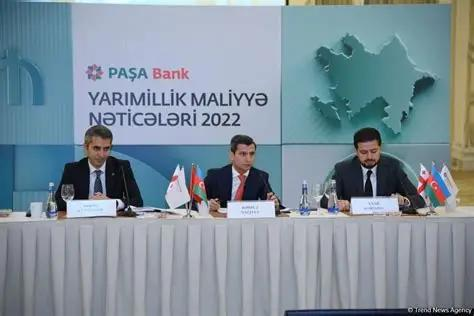Pasha Bank: (85, 61, 103, 82)
